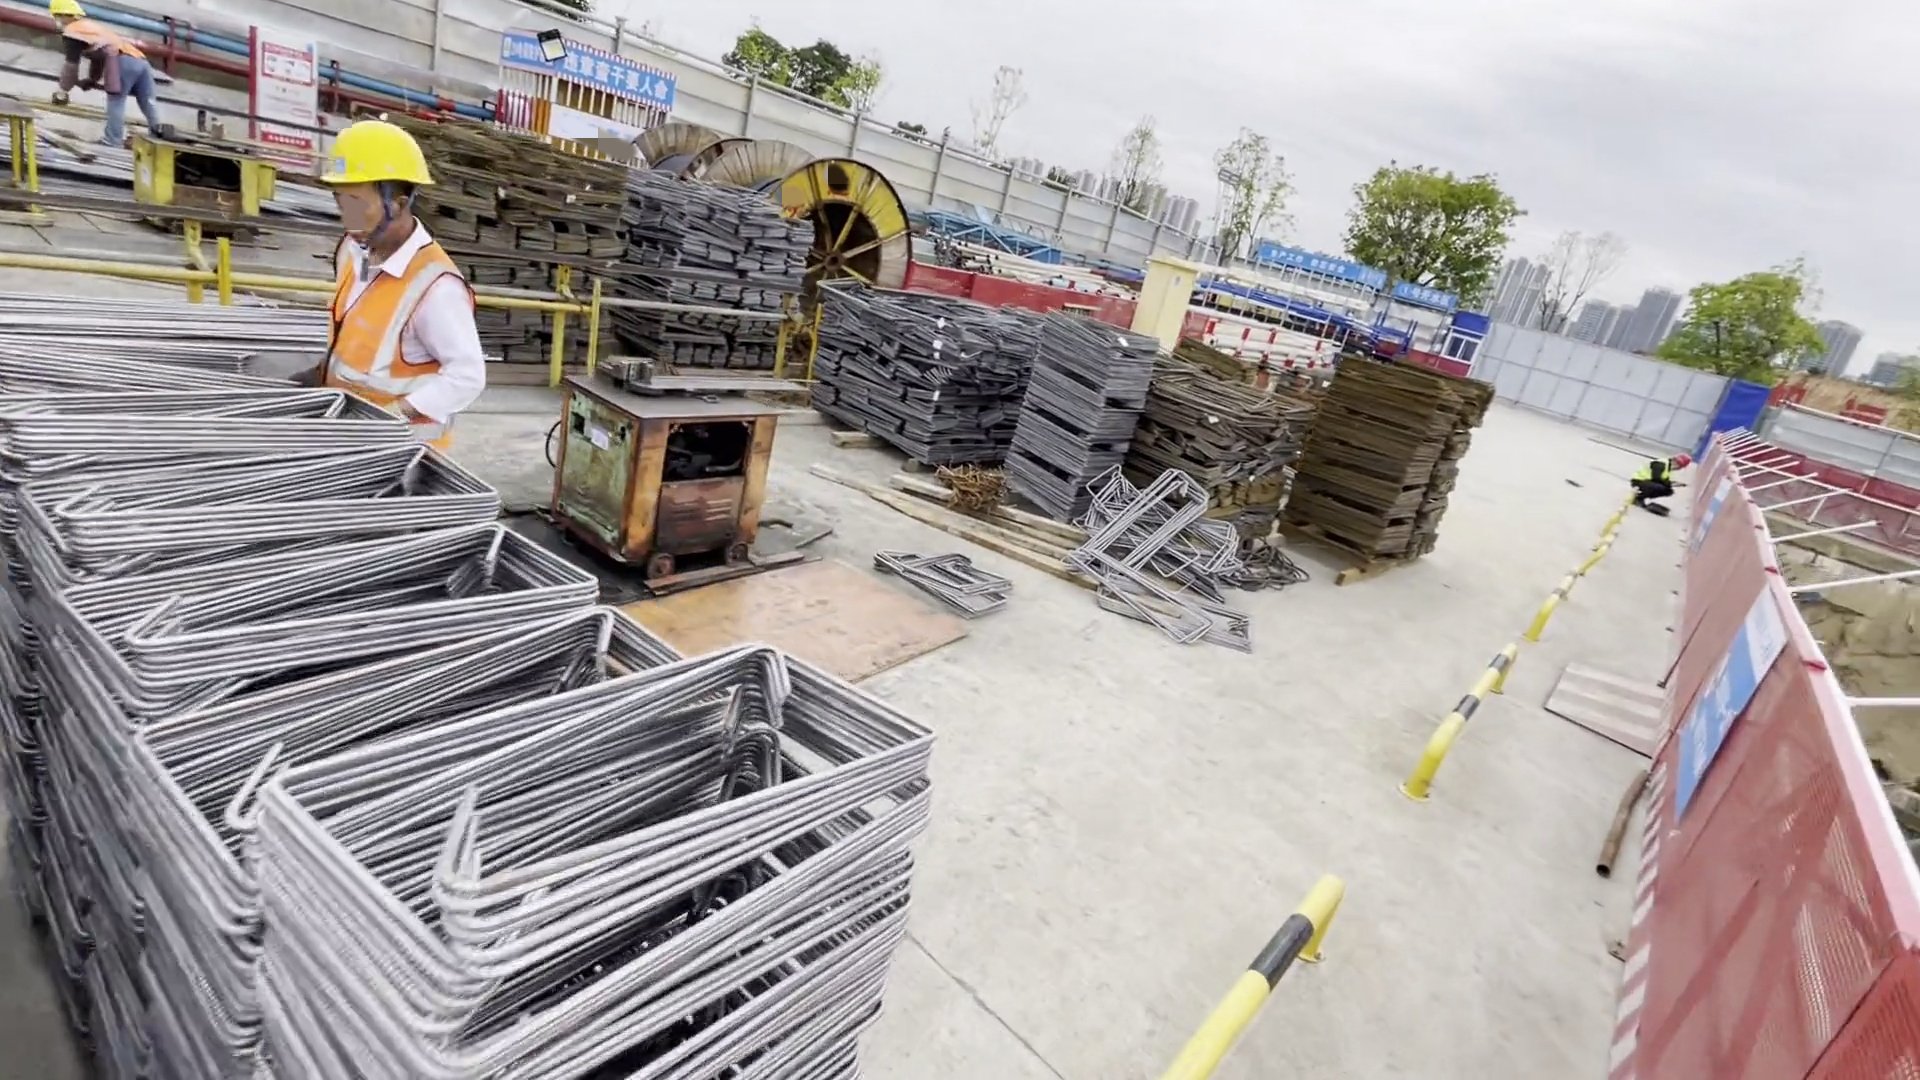ebox: (1126, 247, 1195, 357)
fence: (1651, 440, 1920, 1077)
helmet: (321, 121, 417, 187), (50, 1, 90, 18), (1676, 452, 1690, 466)
person: (304, 115, 481, 471), (41, 2, 166, 146), (1628, 448, 1686, 515)
slogan: (1265, 247, 1350, 282)
vest: (334, 250, 439, 409), (64, 19, 150, 61), (1633, 460, 1667, 482)
